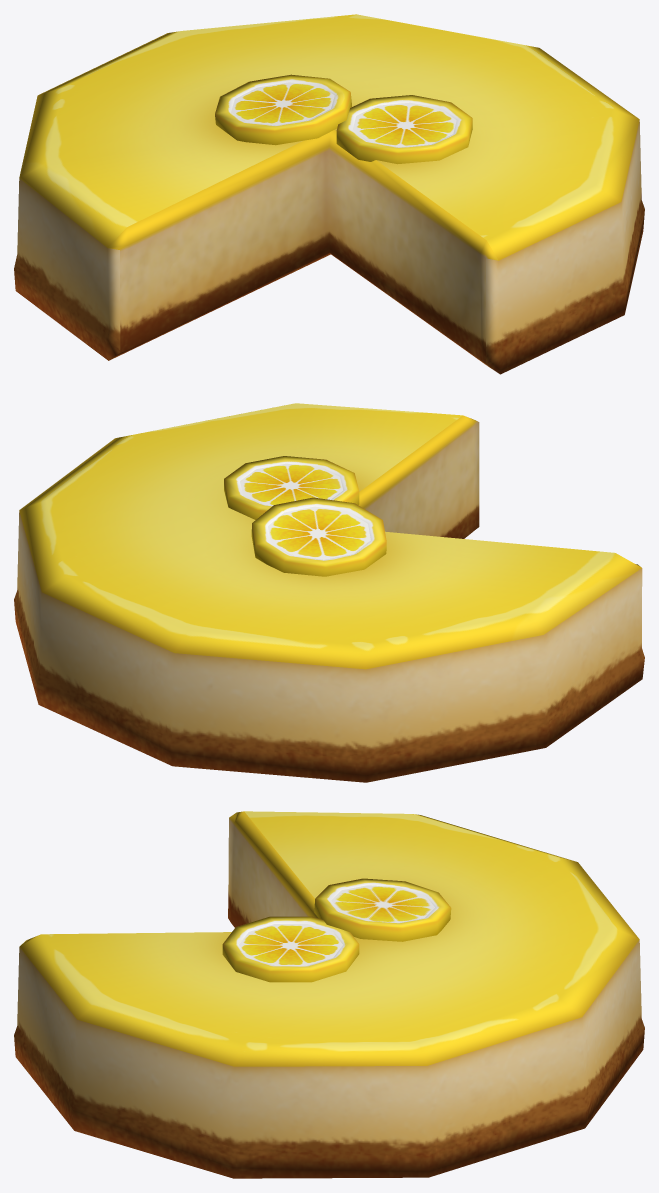
The model's file is Lemon_Cheesecake_Cut.fbx.
3 views of the same model, one above another, from view 1: azimuth 30°, elevation 25°; view 2: azimuth 150°, elevation 25°; view 3: azimuth 270°, elevation 25° (orthographic).
Parts seen in each view (by area): view 1: Lemon_Cheesecake_Cut; view 2: Lemon_Cheesecake_Cut; view 3: Lemon_Cheesecake_Cut.
Boxes of the visible parts, x1,y1,x2,y2 form: Lemon_Cheesecake_Cut: [14, 14, 644, 374]; Lemon_Cheesecake_Cut: [14, 403, 644, 782]; Lemon_Cheesecake_Cut: [14, 811, 644, 1178].
Size of the model in its own units: 79.53 by 20.94 by 82.4.
